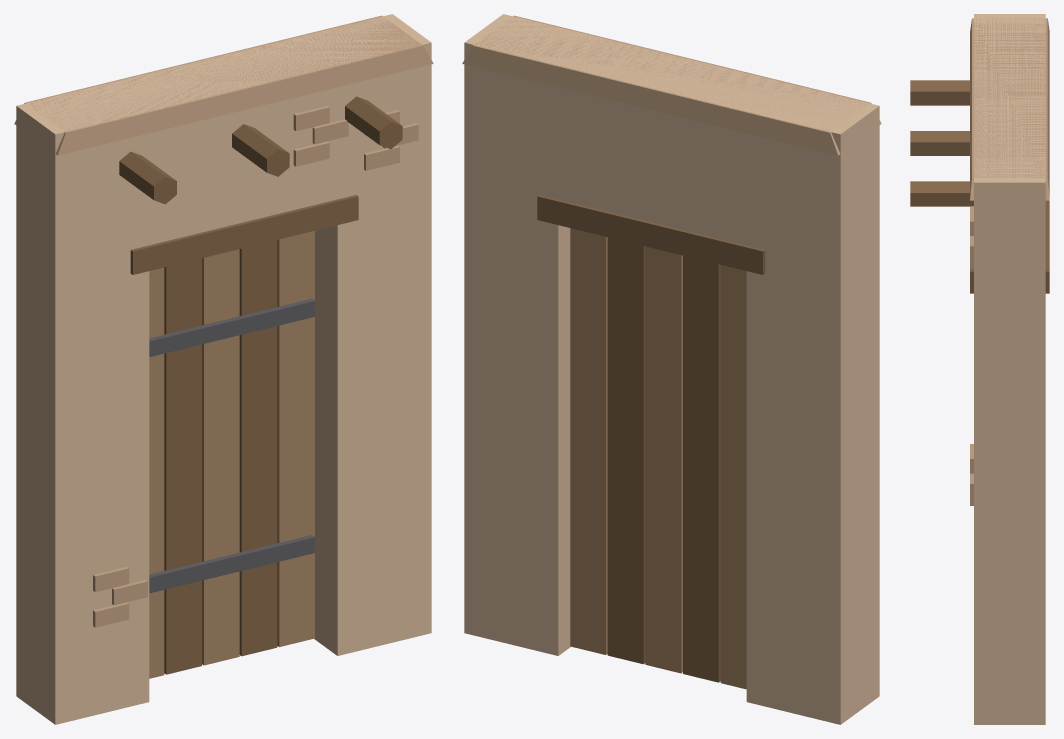
Rendered from SM_Wall_Adobe_Door.glb.
3 views of the same model, side by side, from view 1: azimuth 30°, elevation 25°; view 2: azimuth 150°, elevation 25°; view 3: azimuth 270°, elevation 25° (orthographic). The views are drawn at different scales.
Parts seen in each view (by area): view 1: SM_Wall_Adobe_Door; view 2: SM_Wall_Adobe_Door; view 3: SM_Wall_Adobe_Door.
Part boxes in pixels (<box>): SM_Wall_Adobe_Door: <box>14,14,433,724</box>; SM_Wall_Adobe_Door: <box>462,14,881,724</box>; SM_Wall_Adobe_Door: <box>910,14,1049,724</box>.
Bounding box in the file's own units: 2 × 3 × 0.7.
